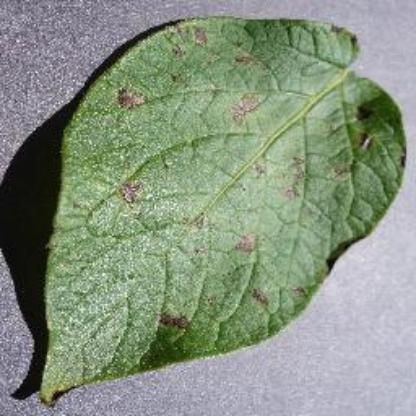Early-Blight: (27, 15, 408, 403)
